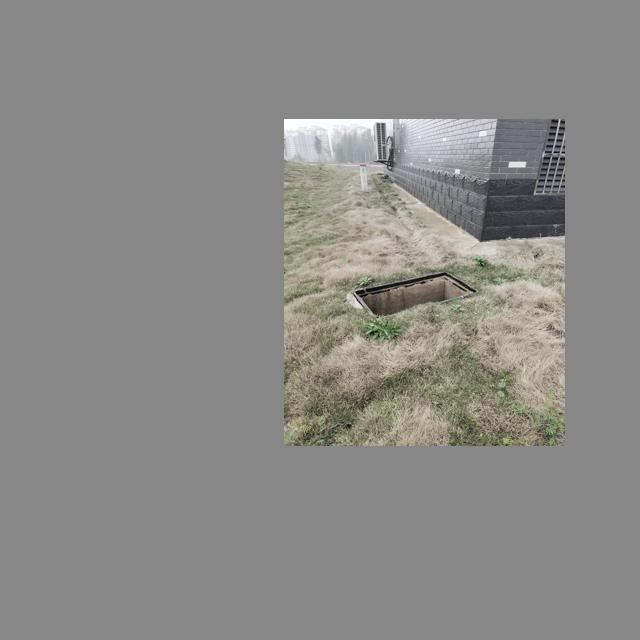lose: (353, 271, 482, 318)
